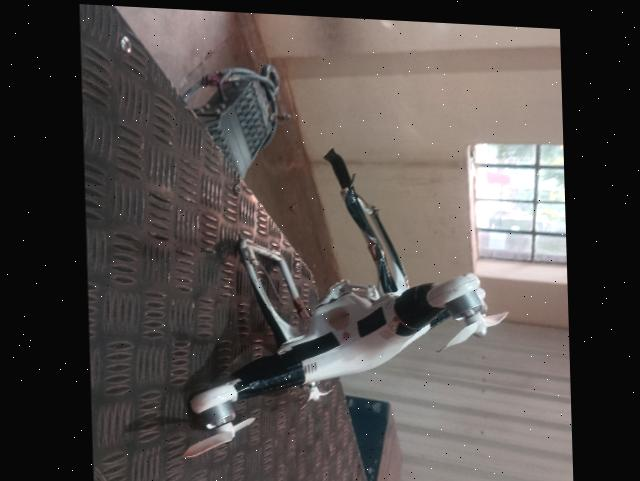drone: (180, 163, 487, 456)
